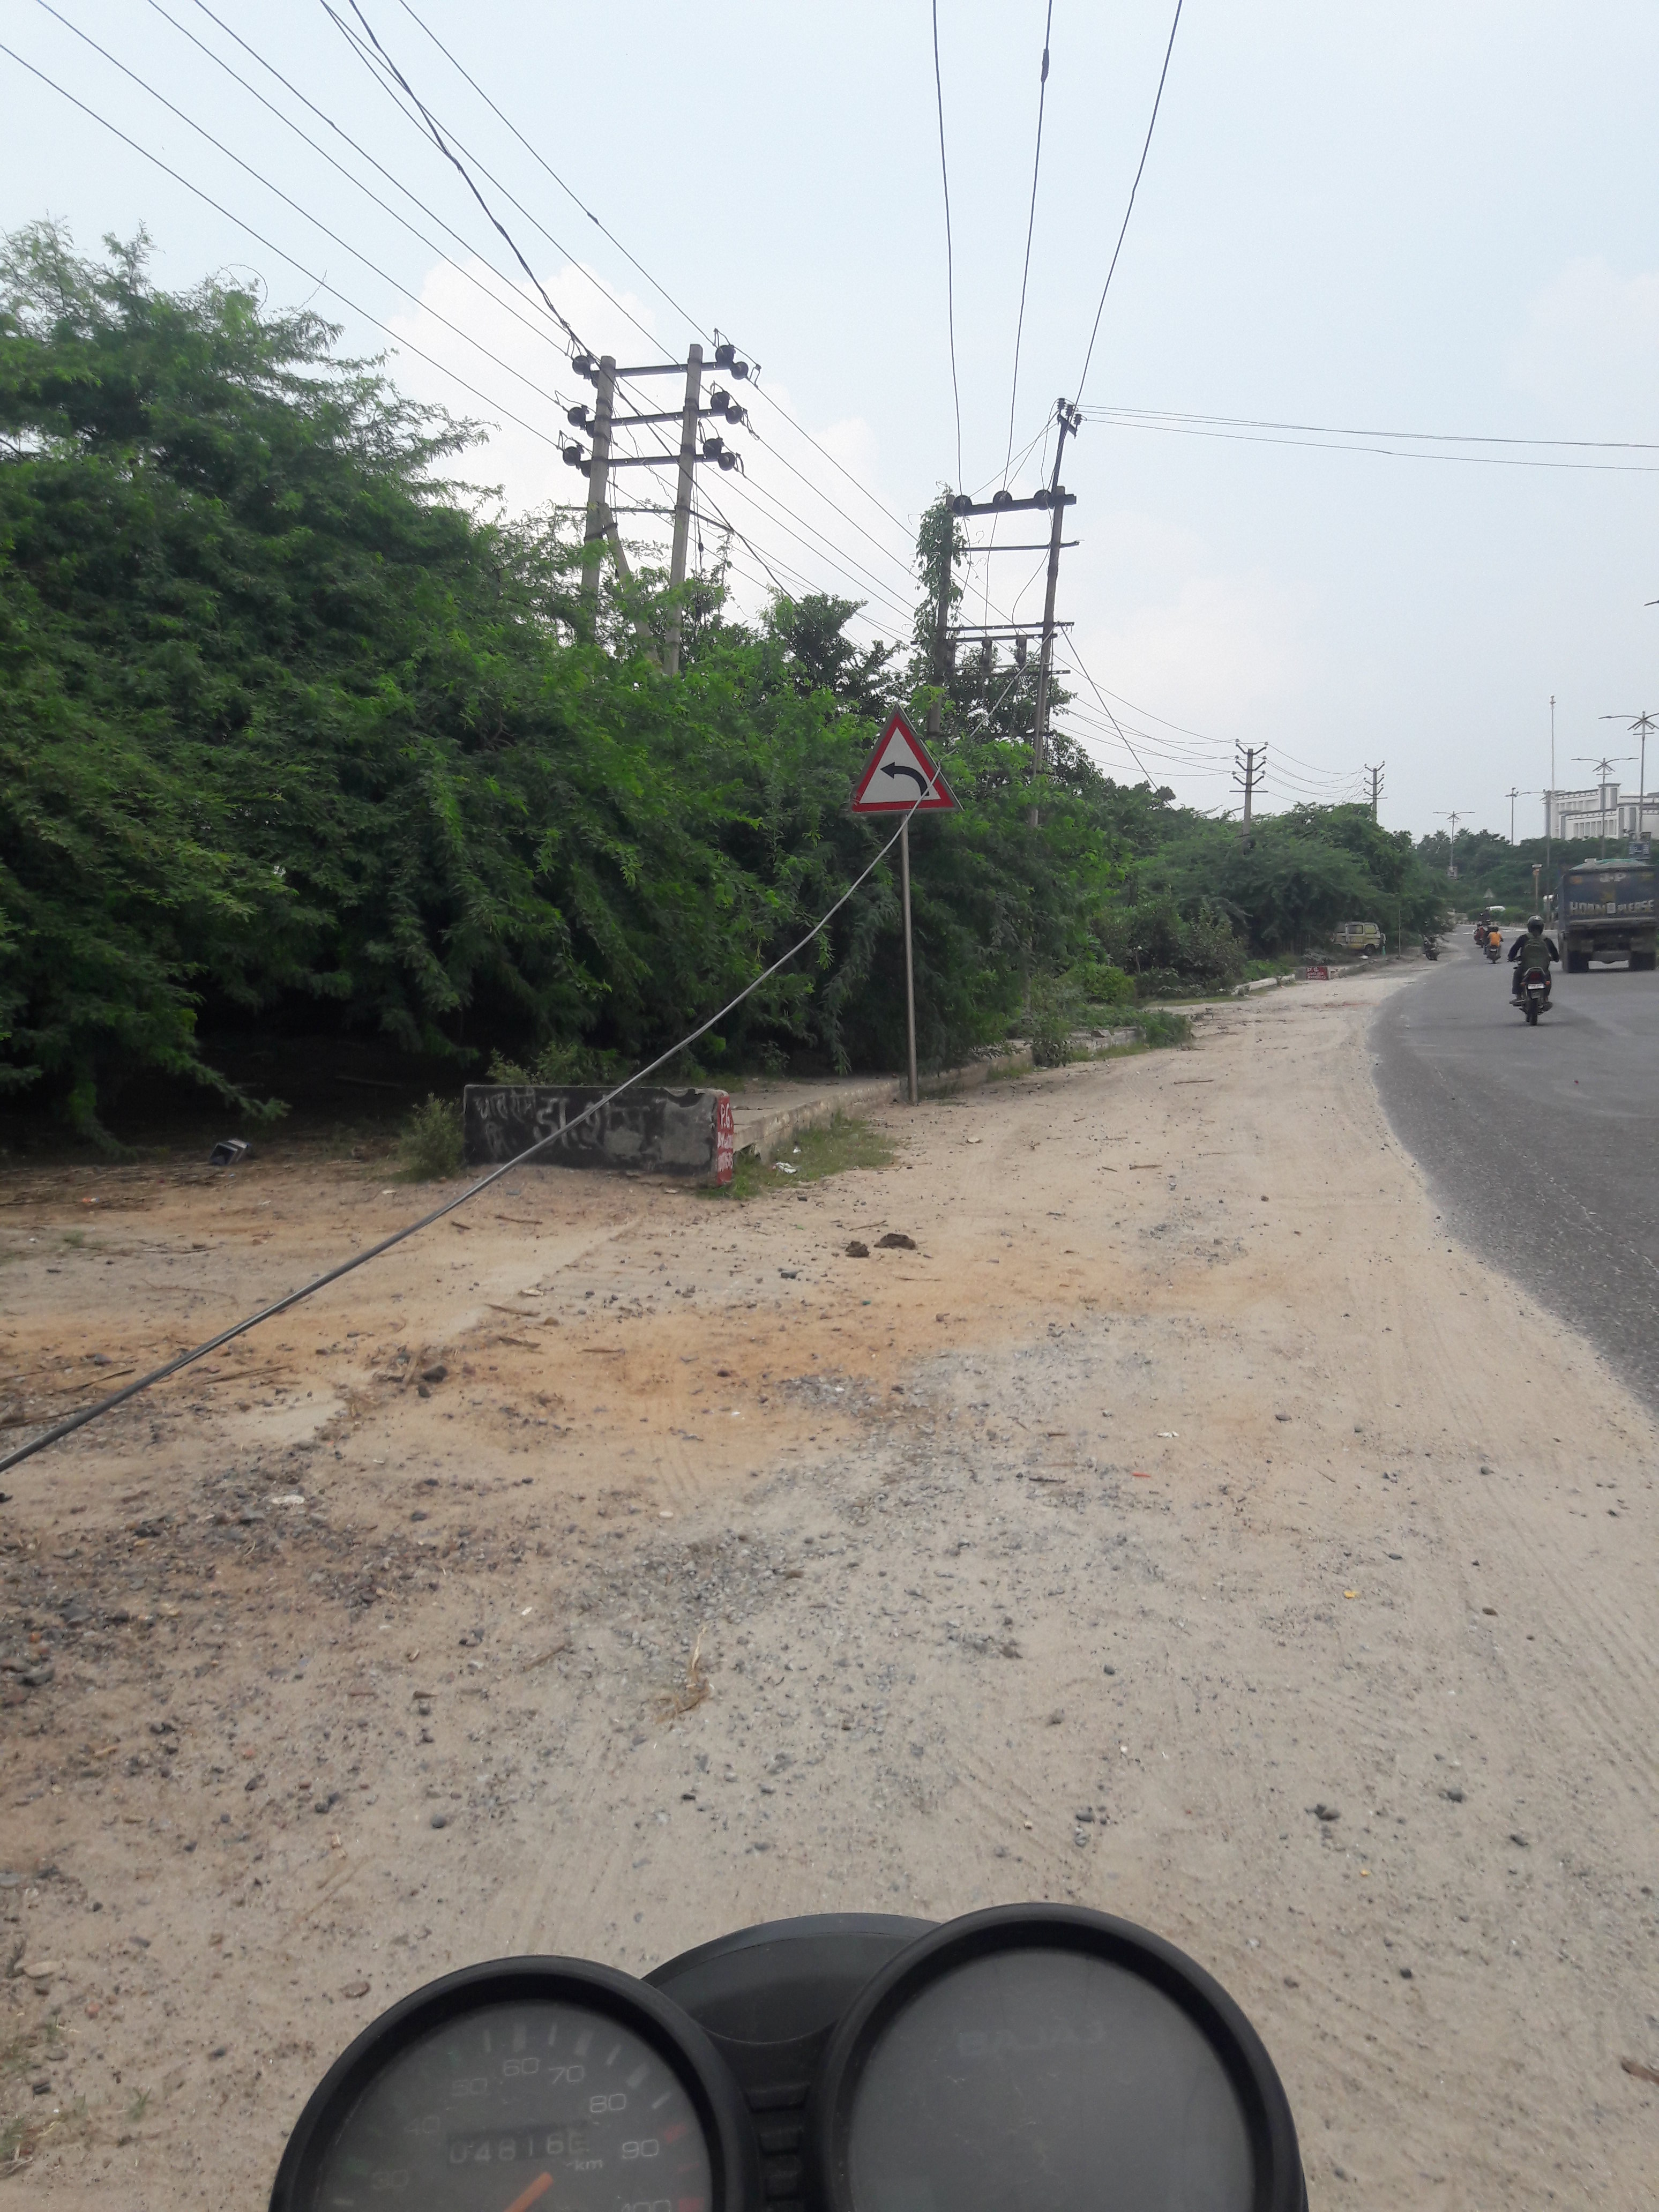traffic_sign: (849, 700, 964, 815)
